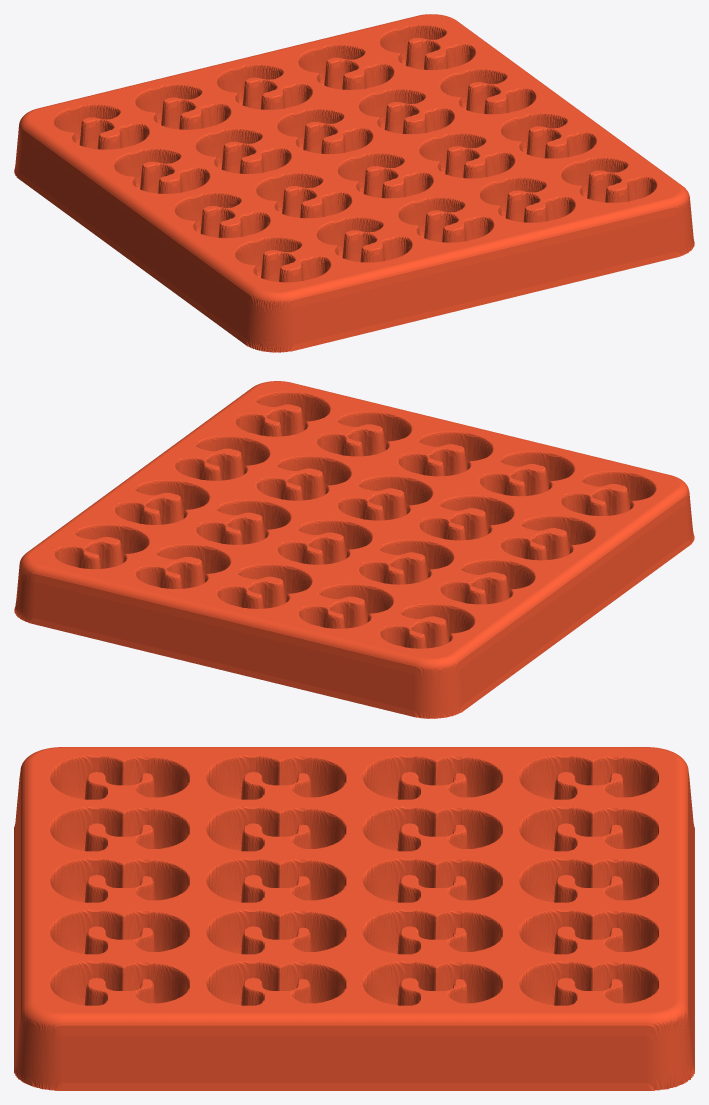
The model's file is mold.glb.
3 renders of one model, top to bottom at view 1: azimuth 30°, elevation 25°; view 2: azimuth 150°, elevation 25°; view 3: azimuth 270°, elevation 25°, orthographic. The views are drawn at different scales.
Visible parts, largest first — view 1: geometry_0; view 2: geometry_0; view 3: geometry_0.
Boxes of the visible parts, <box> form: geometry_0: <box>14,14,694,352</box>; geometry_0: <box>14,381,694,718</box>; geometry_0: <box>14,747,694,1090</box>.
Size of the model in its own units: 0.1246 by 0.0145 by 0.1278.
